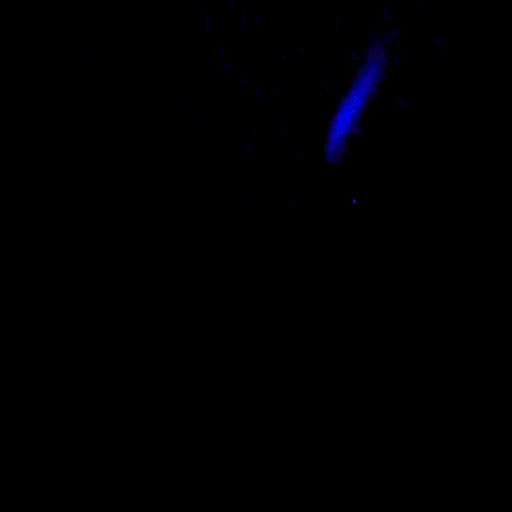object-detection-project: (326, 54, 386, 163)
